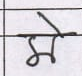e_matra: (38, 12, 63, 34)
